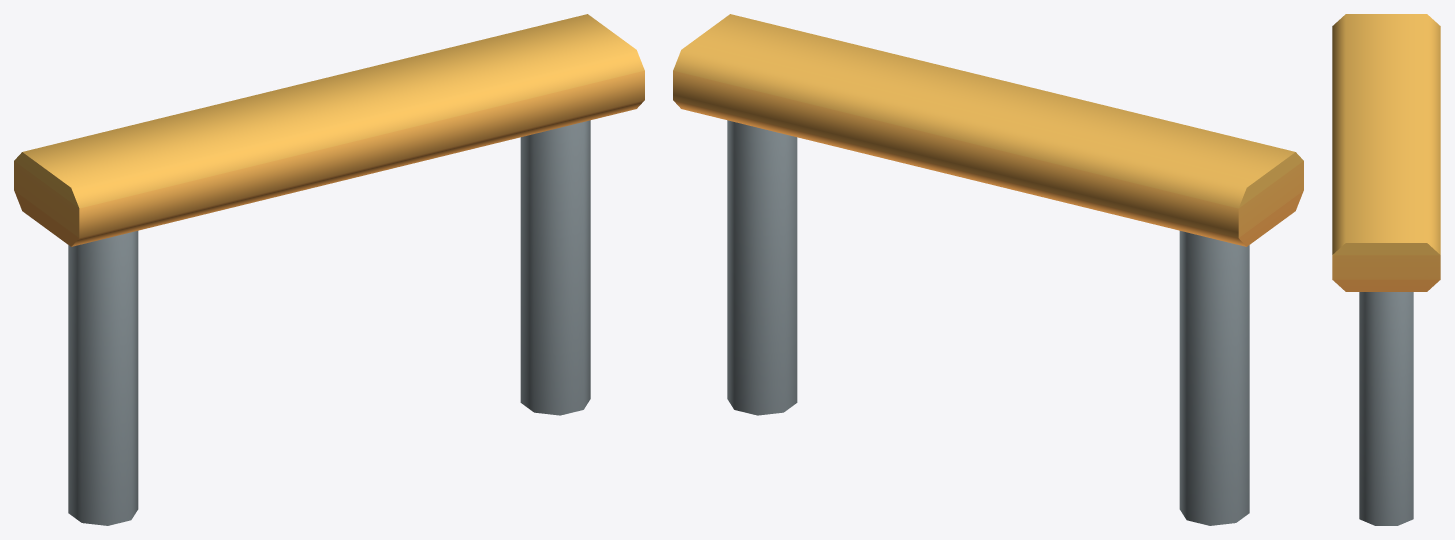
The model's file is railing_straight_single_yellow.glb.
3 views of the same model, side by side, from view 1: azimuth 30°, elevation 25°; view 2: azimuth 150°, elevation 25°; view 3: azimuth 270°, elevation 25° (orthographic). The views are drawn at different scales.
Visible parts, largest first — view 1: railing_straight_single_yellow; view 2: railing_straight_single_yellow; view 3: railing_straight_single_yellow.
Boxes of the visible parts, x1=… form: railing_straight_single_yellow: x1=14, y1=14, x2=644, y2=525; railing_straight_single_yellow: x1=673, y1=14, x2=1303, y2=525; railing_straight_single_yellow: x1=1332, y1=14, x2=1440, y2=525.
Bounding box in the file's own units: 2 × 1.2 × 0.4.
Materials: 1 (1 with a texture image).
